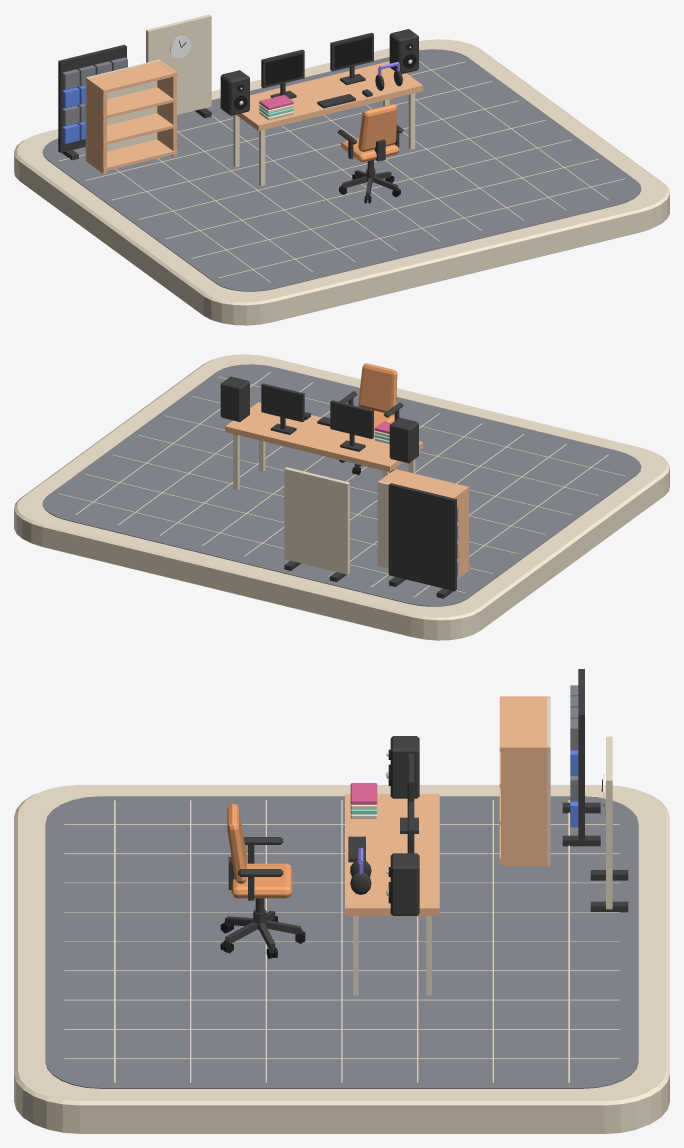
File: room.fbx
The picture shows the model from 3 angles, top to bottom: view 1: azimuth 30°, elevation 25°; view 2: azimuth 150°, elevation 25°; view 3: azimuth 270°, elevation 25°; orthographic projection. The views are drawn at different scales.
Visible parts, largest first — view 1: COM-02 Floor Surface, COM-01 Rounded Base Direct, Top, Panel.001, COM-04_Chair_blender_direct, Panel, Side, Frame.001, Frame, Back, Shelf.003, Shelf (+11 smaller); view 2: COM-02 Floor Surface, COM-01 Rounded Base Direct, Panel, Panel.001, Top, COM-04_Chair_blender_direct, Frame.001, Frame, Enclosure, Enclosure.001, Shelf.003, Back (+1 smaller); view 3: COM-02 Floor Surface, COM-01 Rounded Base Direct, Top, COM-04_Chair_blender_direct, Side.001, Shelf.003, Enclosure.001, Enclosure, Panel, Panel.001, Grout X.006, Grout X.008 (+4 smaller).
Part boxes in pixels (<box>): COM-02 Floor Surface: <box>42,49,641,291</box>; COM-01 Rounded Base Direct: <box>14,39,669,325</box>; Top: <box>233,61,423,185</box>; Panel.001: <box>146,14,211,114</box>; COM-04_Chair_blender_direct: <box>337,104,403,203</box>; Panel: <box>58,44,126,152</box>; Side: <box>87,77,106,173</box>; Frame.001: <box>330,32,373,85</box>; Frame: <box>261,49,304,98</box>; Back: <box>85,59,160,161</box>; Shelf.003: <box>86,61,177,93</box>; Shelf: <box>86,139,177,171</box>; COM-02 Floor Surface: <box>42,364,641,606</box>; COM-01 Rounded Base Direct: <box>14,354,669,640</box>; Panel: <box>388,483,456,591</box>; Panel.001: <box>284,467,349,574</box>; Top: <box>225,402,423,490</box>; COM-04_Chair_blender_direct: <box>339,363,403,474</box>; Frame.001: <box>261,383,304,434</box>; Frame: <box>330,400,373,451</box>; Enclosure: <box>389,417,418,463</box>; Enclosure.001: <box>220,376,249,421</box>; Shelf.003: <box>383,469,469,498</box>; Back: <box>377,481,389,568</box>; COM-02 Floor Surface: <box>45,796,638,1088</box>; COM-01 Rounded Base Direct: <box>14,785,669,1133</box>; Top: <box>345,794,439,995</box>; COM-04_Chair_blender_direct: <box>220,804,305,958</box>; Side.001: <box>501,745,548,866</box>; Shelf.003: <box>499,696,549,751</box>; Enclosure.001: <box>390,853,419,915</box>; Enclosure: <box>390,736,419,798</box>; Panel: <box>578,669,584,843</box>; Panel.001: <box>606,736,612,909</box>; Grout X.006: <box>64,999,619,1000</box>; Grout X.008: <box>64,1058,619,1059</box>.
Size of the model in its own units: 600 by 161 by 520.
